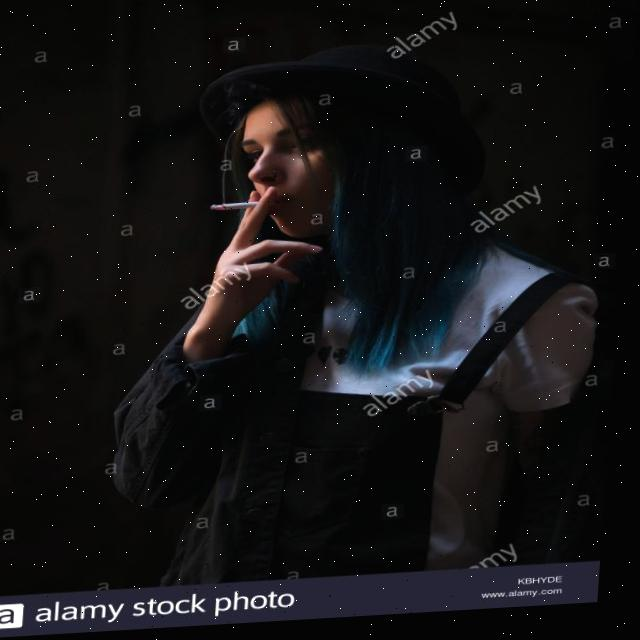cigarette: (213, 203, 262, 214)
